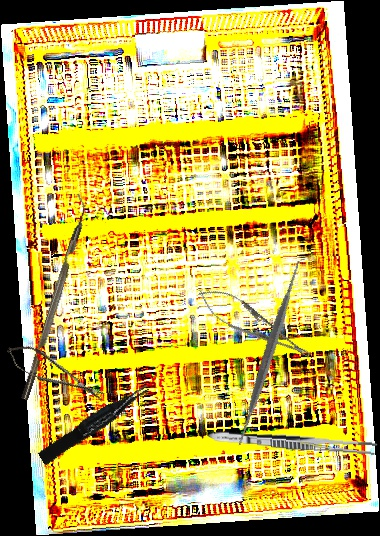Chopper: (11, 193, 94, 401)
Dressing Forceps: (206, 428, 380, 456)
Micro Scissor: (2, 336, 109, 412)
Needle Holder: (191, 279, 318, 370)
Spatula Surgical: (172, 255, 367, 451)
Tissue Forceps: (34, 382, 156, 466)
